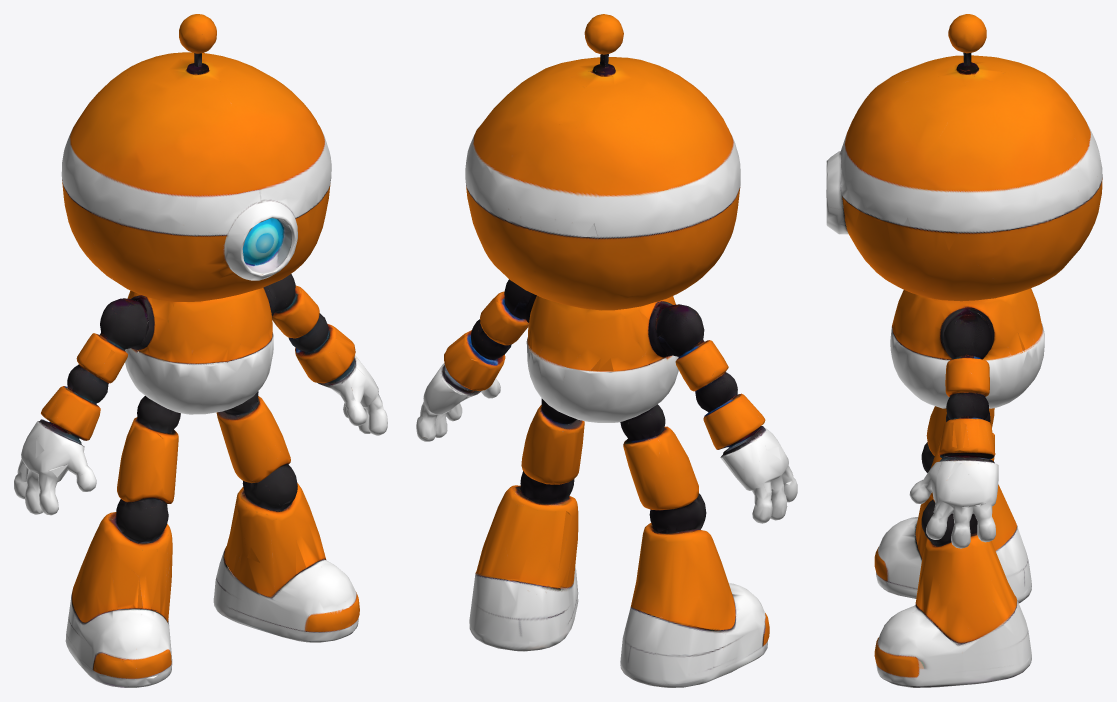
Rendered from meshy-robot.fbx.
The picture shows the model from 3 angles, left to right: view 1: azimuth 30°, elevation 25°; view 2: azimuth 150°, elevation 25°; view 3: azimuth 270°, elevation 25°; orthographic projection. The views are drawn at different scales.
Visible parts, largest first — view 1: Mesh_0; view 2: Mesh_0; view 3: Mesh_0.
Part boxes in pixels (left/top/right/bottom): Mesh_0: left=14, top=14, right=387, bottom=687; Mesh_0: left=416, top=14, right=797, bottom=687; Mesh_0: left=826, top=14, right=1102, bottom=687.
Bounding box in the file's own units: 113 × 190 × 77.67.
1 material, 1 textured.
